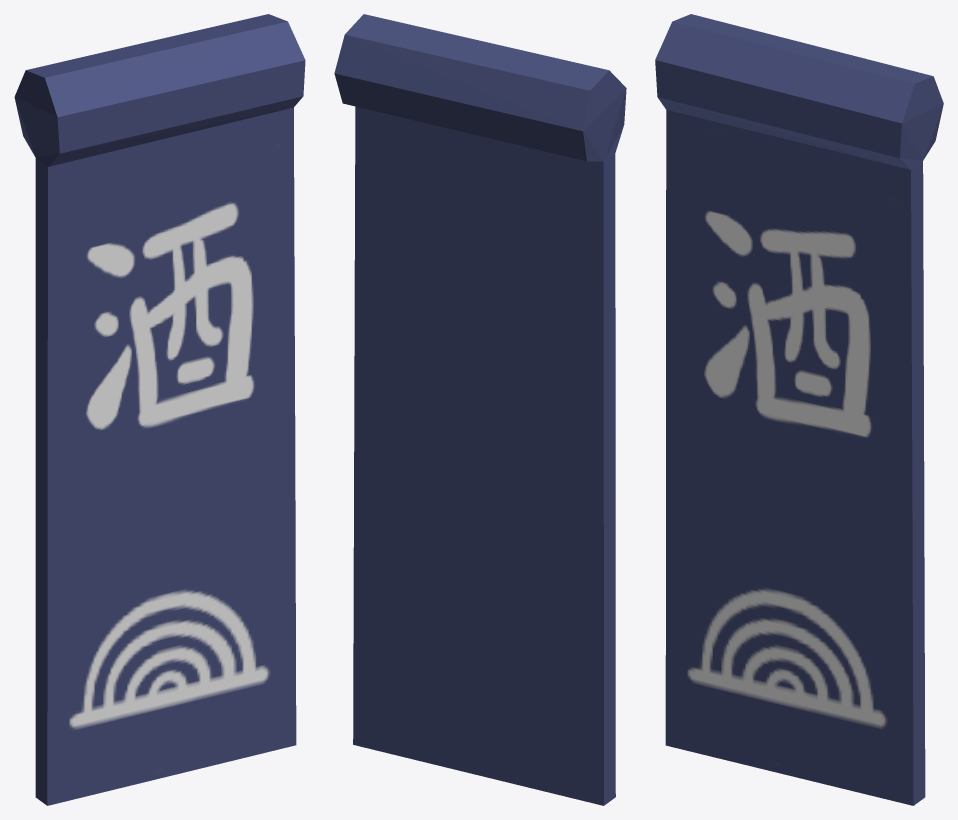
The model's file is MarketStall_Flag_Alcohol.gltf.
The picture shows the model from 3 angles, left to right: view 1: azimuth 30°, elevation 25°; view 2: azimuth 150°, elevation 25°; view 3: azimuth 330°, elevation 25°; orthographic projection.
Parts seen in each view (by area): view 1: MarketStall_Flag_Alcohol; view 2: MarketStall_Flag_Alcohol; view 3: MarketStall_Flag_Alcohol.
Boxes of the visible parts, x1,y1,x2,y2 form: MarketStall_Flag_Alcohol: (14,14,305,805); MarketStall_Flag_Alcohol: (334,14,626,805); MarketStall_Flag_Alcohol: (655,14,943,805).
Size of the model in its own units: 0.3827 by 1.06 by 0.1149.
Materials: 1 (1 with a texture image).
